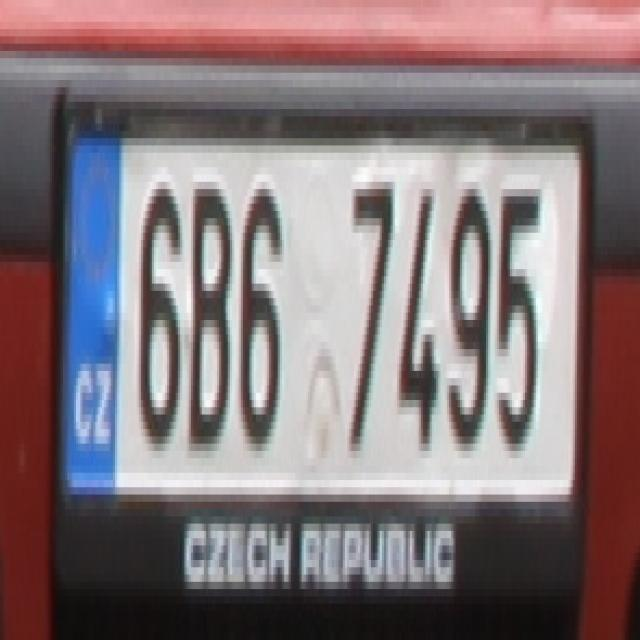4: (393, 174, 438, 451)
5: (495, 182, 540, 451)
6: (135, 174, 182, 451), (237, 182, 284, 451)
7: (347, 174, 391, 451)
9: (443, 167, 488, 451)
B: (189, 182, 230, 451)
